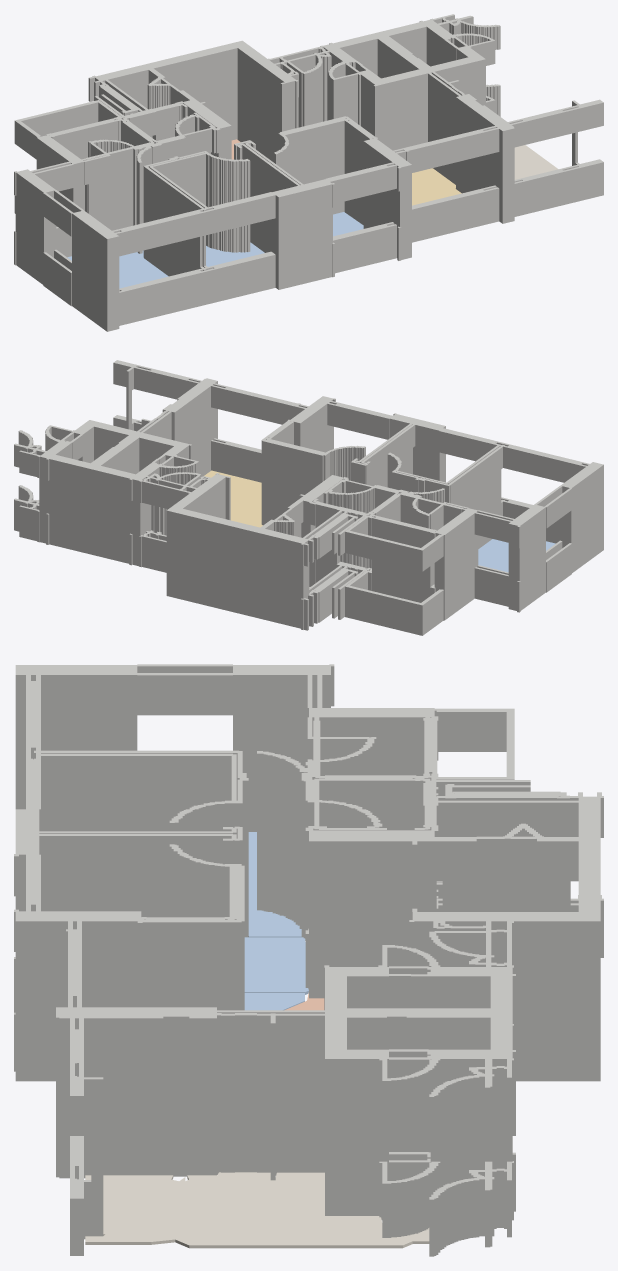
3 renders of one model, top to bottom at view 1: azimuth 30°, elevation 25°; view 2: azimuth 150°, elevation 25°; view 3: azimuth 270°, elevation 25°, orthographic. The views are drawn at different scales.
Parts seen in each view (by area): view 1: walls, room:living:5, room:bedroom:3, room:other:8, room:bedroom:6, room:bedroom:9; view 2: walls, room:living:5, room:bedroom:3; view 3: walls, room:other:8, room:bedroom:6, room:bedroom:3, room:bedroom:9.
Part boxes in pixels (x1,y1,x2,y2): walls: (14,14,603,331); room:living:5: (412,168,461,205); room:bedroom:3: (67,250,168,288); room:other:8: (514,145,558,179); room:bedroom:6: (206,242,264,266); room:bedroom:9: (333,212,363,236); walls: (14,360,603,635); room:living:5: (204,470,262,527); room:bedroom:3: (478,539,555,572); walls: (14,664,603,1256); room:other:8: (85,1172,429,1248); room:bedroom:6: (244,937,308,994); room:bedroom:3: (248,832,301,937); room:bedroom:9: (244,993,304,1010).
Size of the model in its own units: 16.25 by 2.8 by 9.37.
